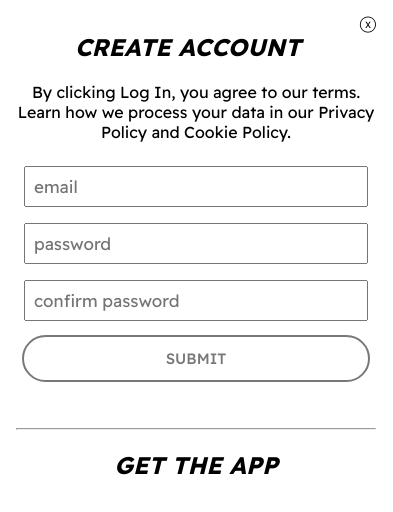
Test case: AuthModal Component › renders error message when passwords do not match
Type "test@example.com" into the field with placeholder "email" at (196,186), box [24,166,368,207]
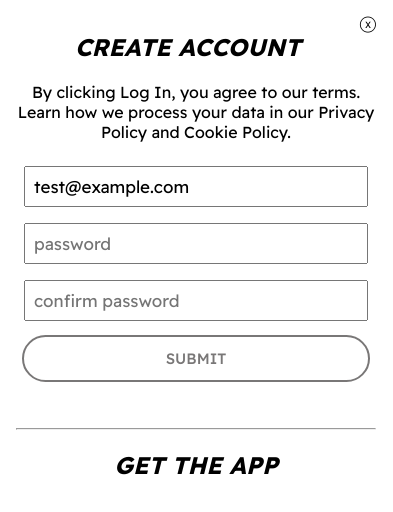
Type "password" into the password field with placeholder "password" at (196,243), box [24,223,368,264]
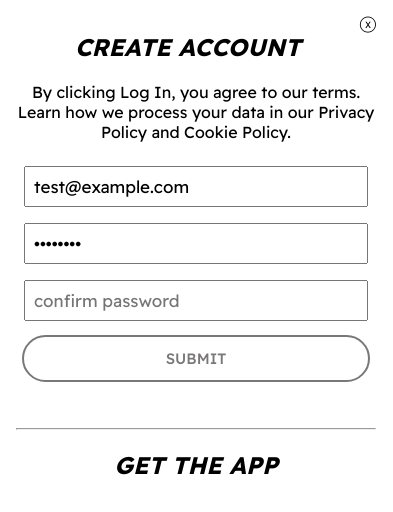
Type "differentpassword" into the password field with placeholder "confirm password" at (196,300), box [24,280,368,321]
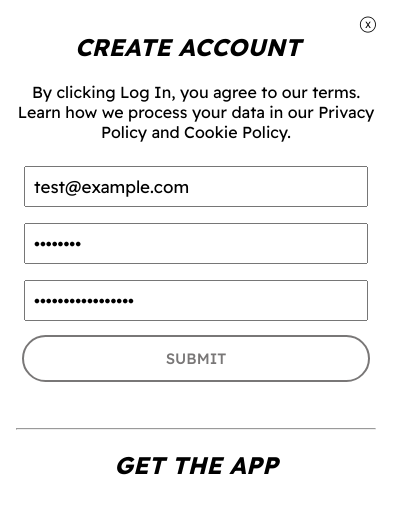
Click the button named "submit" at (196,358), box [22,335,370,382]
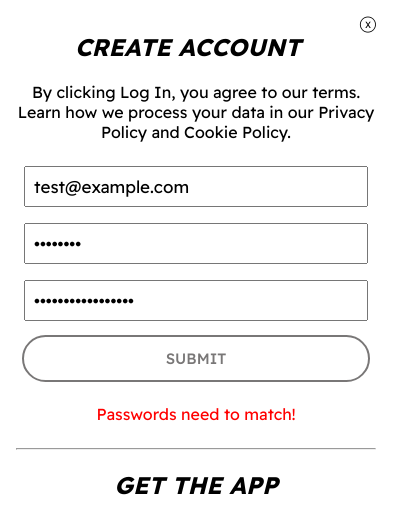
Now the text "Passwords need to match!" is shown, box [96,404,296,424]
